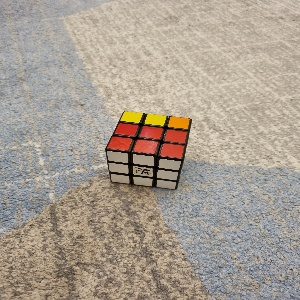cube: (105, 111, 192, 191)
